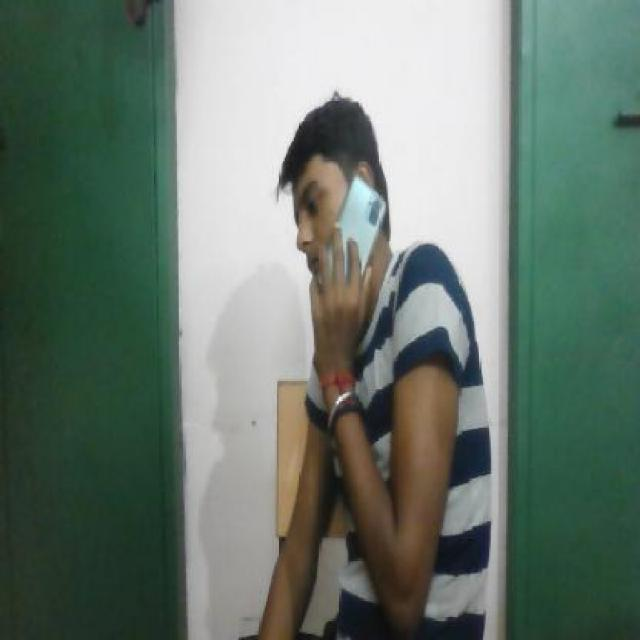phone: (319, 177, 390, 292)
